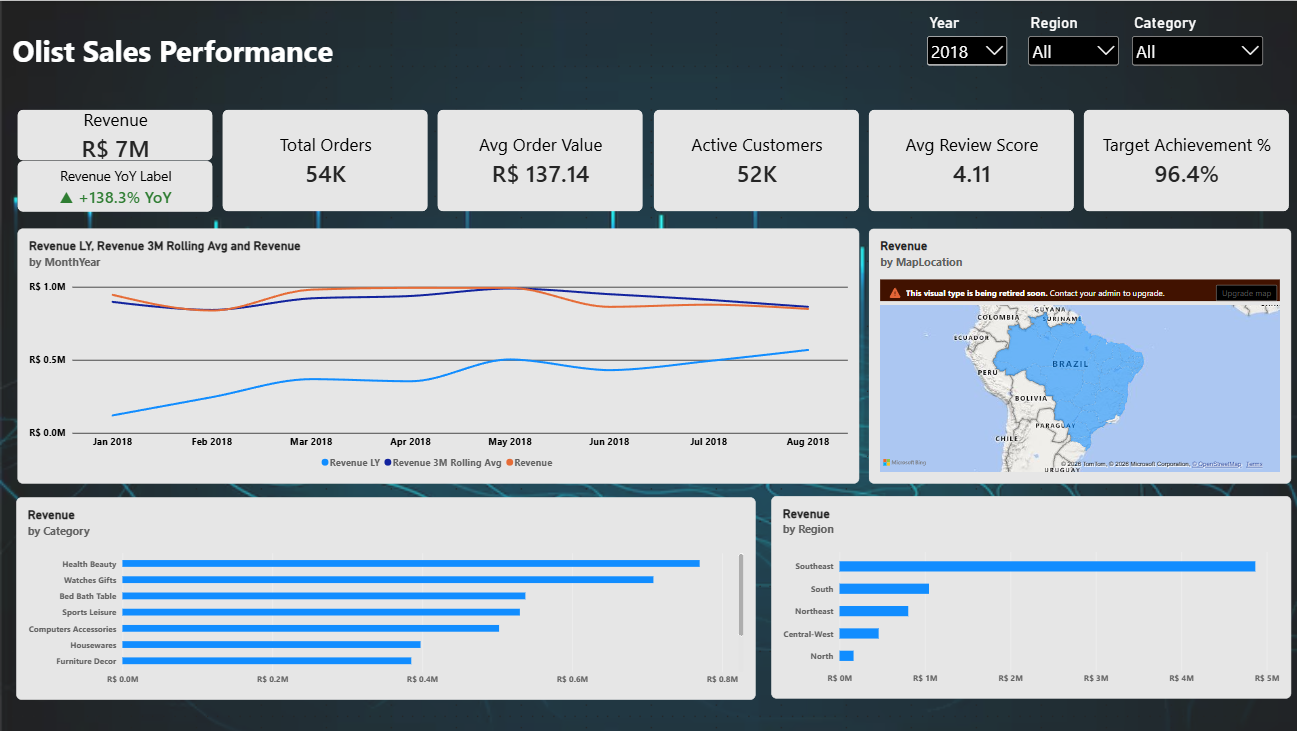

The page's visual inventory and layout, read from the dashboard file:
{"tool":"powerbi","page":{"name":"Executive Overview","canvas":[1920,1080],"ordinal":0},"visuals":[{"type":"textbox","box":[18.8,45.2,512,73.4],"z":0},{"type":"slicer","fields":{"Values":["DimDate.Year"]},"box":[1364.6,18.3,128,100.6],"z":1000},{"type":"slicer","fields":{"Values":["DimState.Region"]},"box":[1513.8,18.5,143.1,101.6],"z":2000},{"type":"slicer","fields":{"Values":["DimProduct.Category"]},"box":[1666.3,18.3,203.1,84.9],"z":3000},{"type":"cardVisual","fields":{"Data":["_Measures.Total Orders"]},"box":[328,159.9,303,150],"z":4000},{"type":"cardVisual","fields":{"Data":["_Measures.Revenue"]},"box":[25.1,160,288,75.4],"z":5000},{"type":"cardVisual","fields":{"Data":["_Measures.Avg Order Value"]},"box":[646.4,159.9,303,150],"z":6000},{"type":"cardVisual","fields":{"Data":["_Measures.Active Customers"]},"box":[964.7,159.9,303,150],"z":7000},{"type":"cardVisual","fields":{"Data":["_Measures.Avg Review Score"]},"box":[1283.1,159.9,303,150],"z":8000},{"type":"cardVisual","fields":{"Data":["_Measures.Target Achievement %"]},"box":[1601.4,160,303,150],"z":9000},{"type":"lineChart","fields":{"Category":["DimDate.MonthYear"],"Y":["_Measures.Revenue LY","_Measures.Revenue 3M Rolling Avg","_Measures.Revenue"]},"box":[25.1,336,1243.4,377.1],"z":10000},{"type":"filledMap","fields":{"Category":["DimState.MapLocation"]},"box":[1282.3,336,624,377.1],"z":11000},{"type":"clusteredBarChart","fields":{"Category":["DimProduct.Category"],"Y":["_Measures.Revenue"]},"box":[24.5,732.2,1091.8,299.3],"z":12000},{"type":"clusteredBarChart","fields":{"Category":["DimState.Region"],"Y":["_Measures.Revenue"]},"box":[1138.3,731.4,768,299.4],"z":13000},{"type":"cardVisual","fields":{"Data":["_Measures.Revenue YoY Label"]},"box":[25.1,235.4,288,75.4],"z":14000}]}

Visuals, with their boxes in screenshot pixels (x1, y1, x2, y2), scaled from the page's 1920x1080 canvas onto the 1297x731 screenshot:
textbox: [left=13, top=31, right=359, bottom=80]
slicer - DimDate.Year: [left=922, top=12, right=1008, bottom=80]
slicer - DimState.Region: [left=1023, top=13, right=1119, bottom=81]
slicer - DimProduct.Category: [left=1126, top=12, right=1263, bottom=70]
cardVisual - _Measures.Total Orders: [left=222, top=108, right=426, bottom=210]
cardVisual - _Measures.Revenue: [left=17, top=108, right=212, bottom=159]
cardVisual - _Measures.Avg Order Value: [left=437, top=108, right=641, bottom=210]
cardVisual - _Measures.Active Customers: [left=652, top=108, right=856, bottom=210]
cardVisual - _Measures.Avg Review Score: [left=867, top=108, right=1071, bottom=210]
cardVisual - _Measures.Target Achievement %: [left=1082, top=108, right=1286, bottom=210]
lineChart - DimDate.MonthYear x _Measures.Revenue LY: [left=17, top=227, right=857, bottom=483]
filledMap - DimState.MapLocation: [left=866, top=227, right=1288, bottom=483]
clusteredBarChart - DimProduct.Category x _Measures.Revenue: [left=17, top=496, right=754, bottom=698]
clusteredBarChart - DimState.Region x _Measures.Revenue: [left=769, top=495, right=1288, bottom=698]
cardVisual - _Measures.Revenue YoY Label: [left=17, top=159, right=212, bottom=210]
